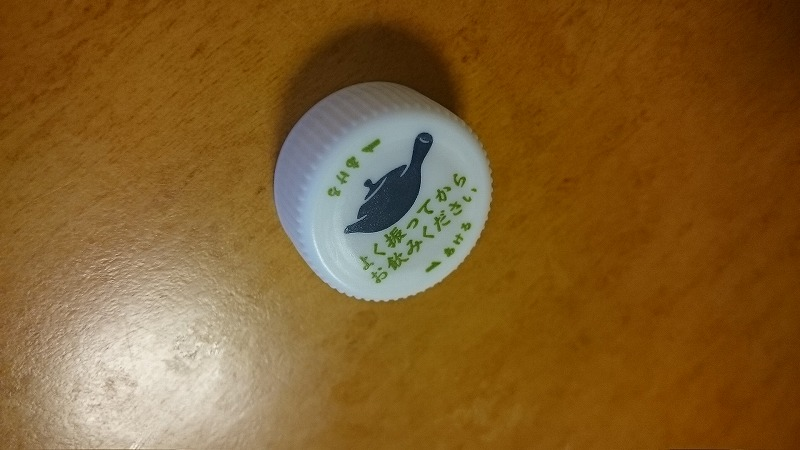A: (268, 70, 497, 312)
